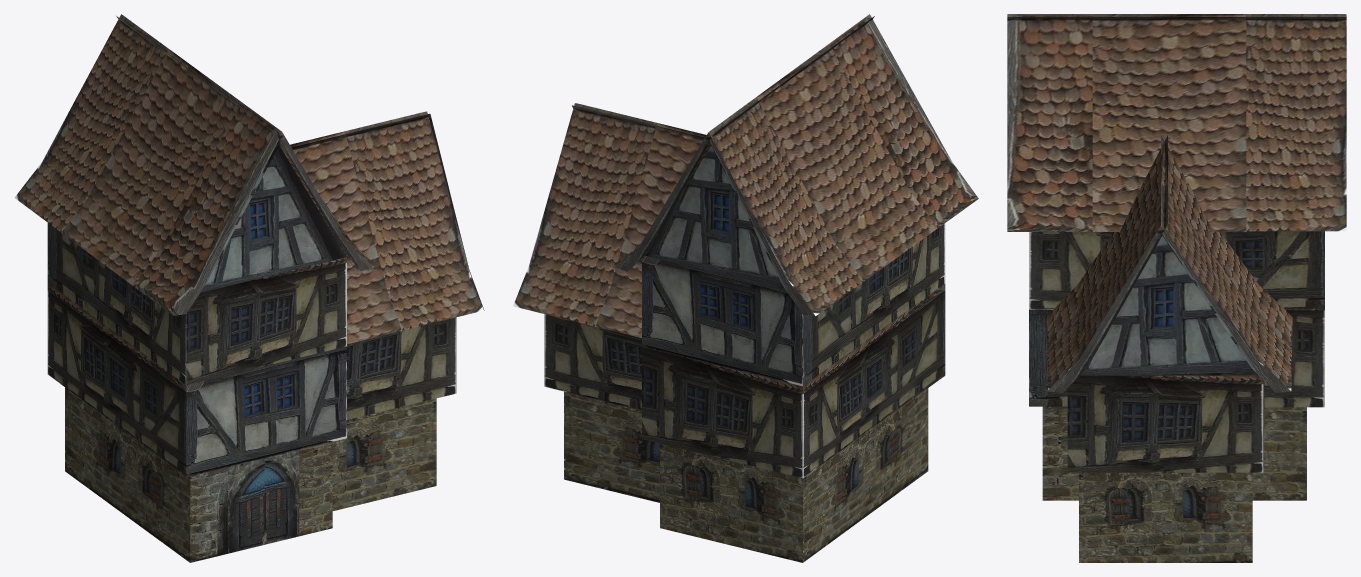
The picture shows the model from 3 angles, left to right: view 1: azimuth 30°, elevation 25°; view 2: azimuth 150°, elevation 25°; view 3: azimuth 270°, elevation 25°; orthographic projection. The views are drawn at different scales.
Visible parts, largest first — view 1: h6.001; view 2: h6.001; view 3: h6.001.
Part boxes in pixels (x1=…): h6.001: x1=14, y1=14, x2=484, y2=562; h6.001: x1=513, y1=14, x2=978, y2=562; h6.001: x1=1007, y1=14, x2=1346, y2=562.
Bounding box in the file's own units: 2.37 × 2.91 × 2.
1 material, 1 textured.
